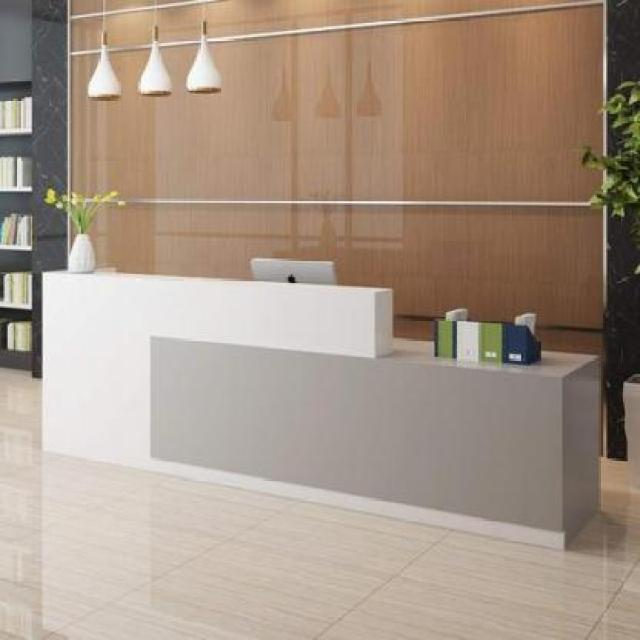frontdesk: (32, 254, 608, 560)
